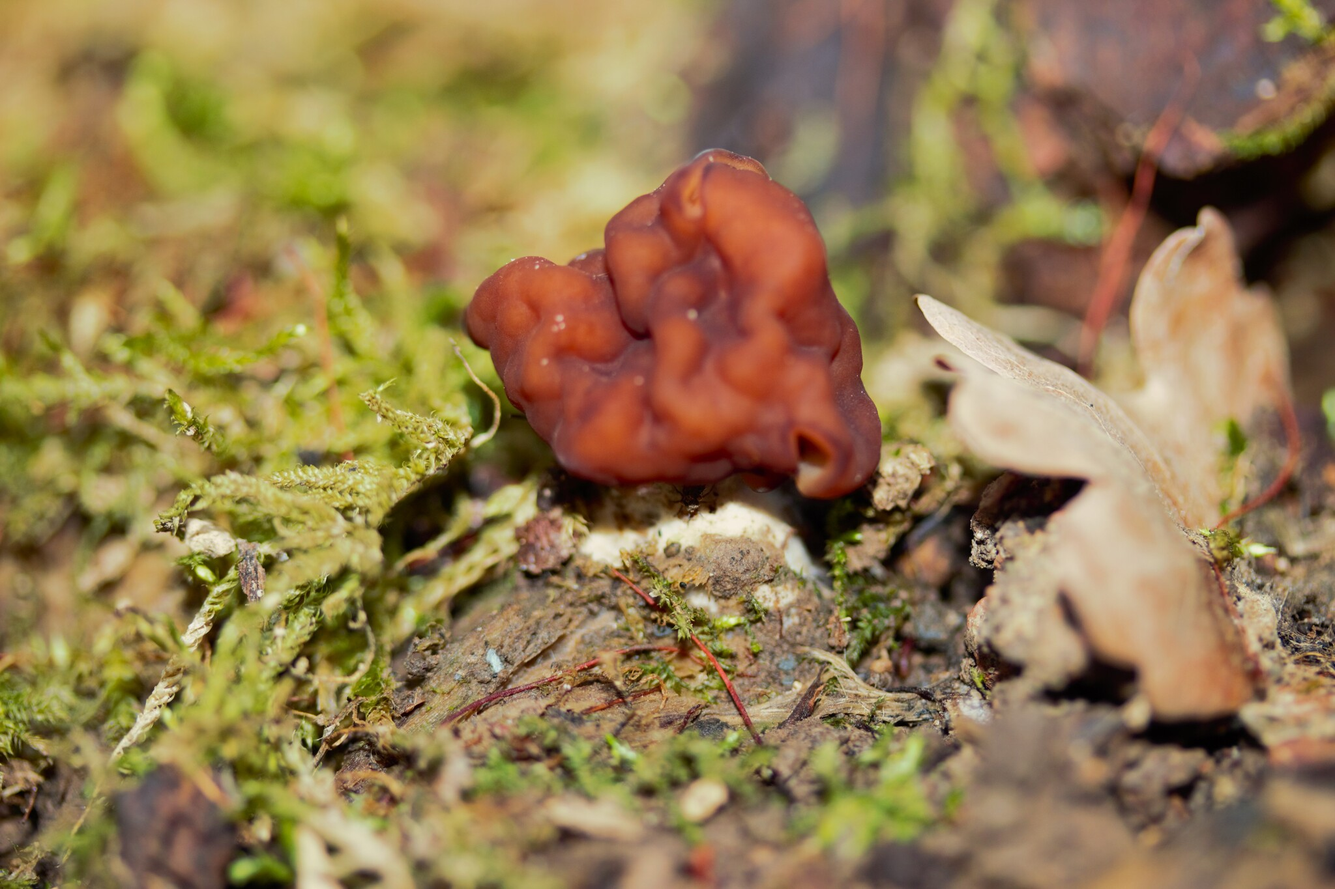cap: (465, 150, 879, 498)
stem: (578, 478, 823, 613)
